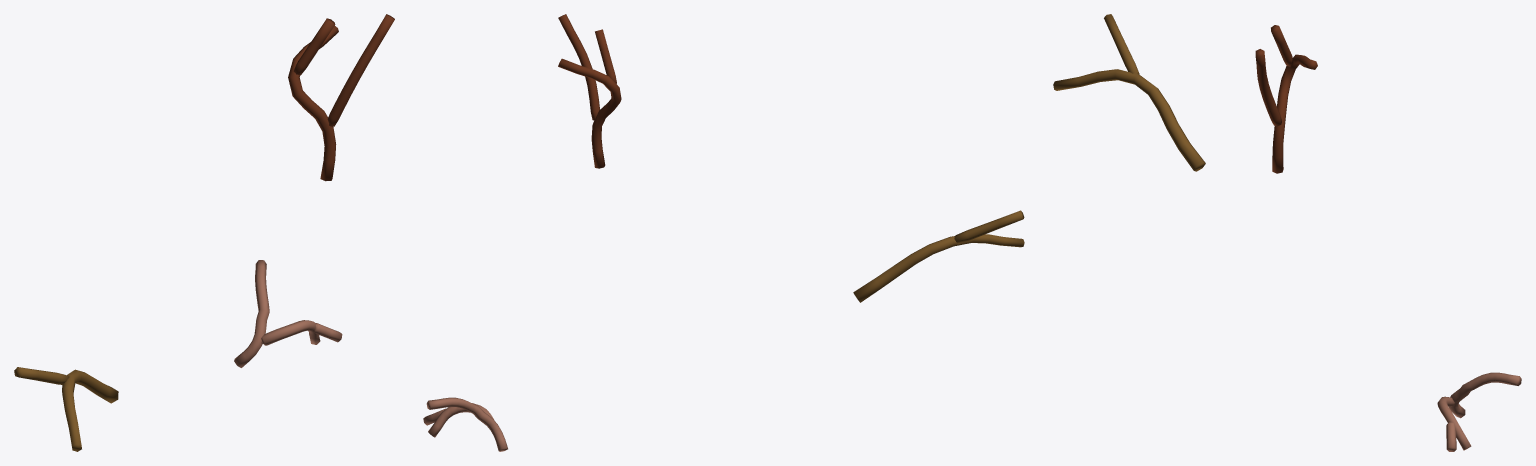
Rendered from Branches.fbx.
The picture shows the model from 3 angles, left to right: view 1: azimuth 30°, elevation 25°; view 2: azimuth 150°, elevation 25°; view 3: azimuth 270°, elevation 25°; orthographic projection. The views are drawn at different scales.
Parts seen in each view (by area): view 1: tree.001, tree.003, tree.002; view 2: tree.001, tree.002, tree.003; view 3: tree.002, tree.001, tree.003.
Part boxes in pixels (left/top/right/bottom): tree.001: left=288, top=14, right=394, bottom=181; tree.003: left=234, top=260, right=342, bottom=367; tree.002: left=14, top=367, right=118, bottom=451; tree.001: left=558, top=14, right=621, bottom=168; tree.002: left=853, top=210, right=1024, bottom=302; tree.003: left=423, top=397, right=507, bottom=451; tree.002: left=1053, top=14, right=1205, bottom=171; tree.001: left=1255, top=25, right=1317, bottom=173; tree.003: left=1437, top=372, right=1521, bottom=451.
Bounding box in the file's own units: 123 × 97.31 × 107.
